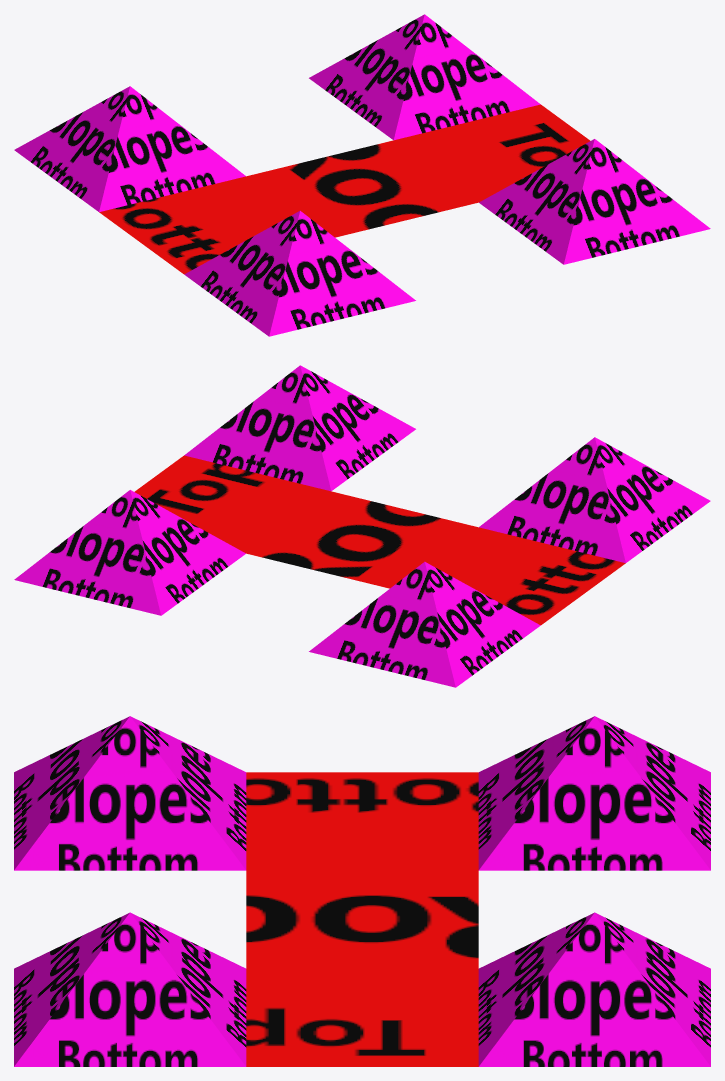
File: ENV_Roof_3x3_BuildingH.fbx
3 views of the same model, one above another, from view 1: azimuth 30°, elevation 25°; view 2: azimuth 150°, elevation 25°; view 3: azimuth 270°, elevation 25° (orthographic). The views are drawn at different scales.
Visible parts, largest first — view 1: ENV_3x3BuildingRoofH; view 2: ENV_3x3BuildingRoofH; view 3: ENV_3x3BuildingRoofH.
Part boxes in pixels (box(x1,y1,x2,y2)): ENV_3x3BuildingRoofH: box(14, 14, 710, 336); ENV_3x3BuildingRoofH: box(14, 365, 710, 687); ENV_3x3BuildingRoofH: box(14, 716, 710, 1066).
Bounding box in the file's own units: 36 × 6 × 36.
